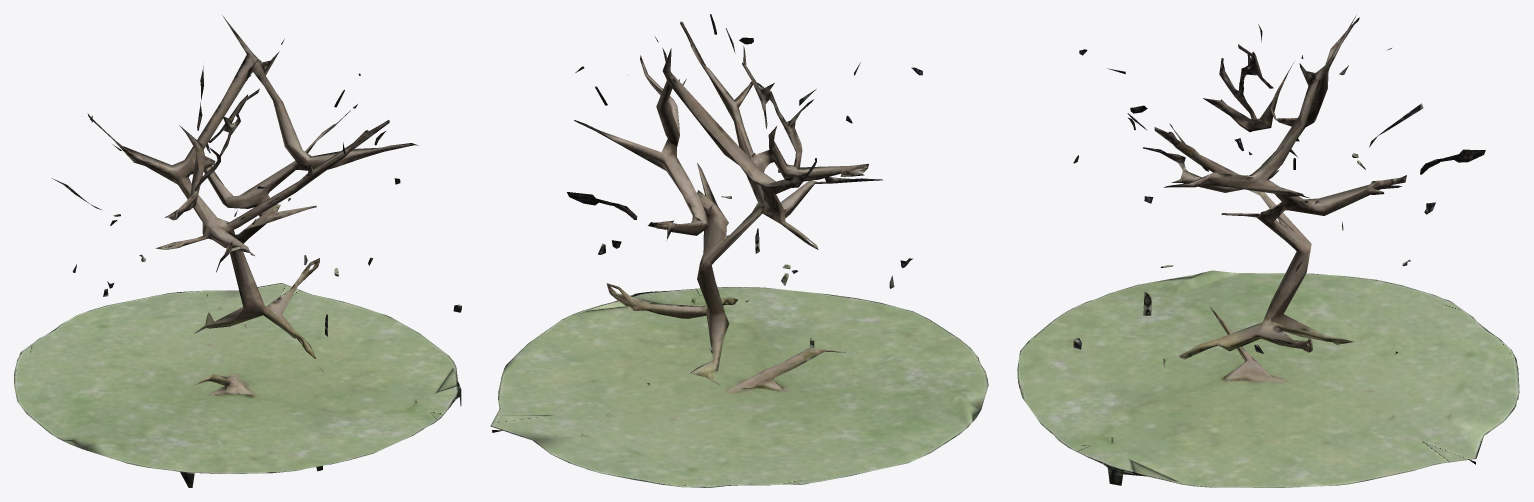
File: deadtree.glb
3 renders of one model, left to right at view 1: azimuth 30°, elevation 25°; view 2: azimuth 150°, elevation 25°; view 3: azimuth 270°, elevation 25°, orthographic. The views are drawn at different scales.
Parts seen in each view (by area): view 1: deadtree; view 2: deadtree; view 3: deadtree.
Part boxes in pixels (x1,y1,x2,y2): deadtree: (14,15,461,487); deadtree: (490,14,988,487); deadtree: (1017,15,1519,487).
Size of the model in its own units: 0.9891 by 0.861 by 0.9882.
Materials: 1 (1 with a texture image).
